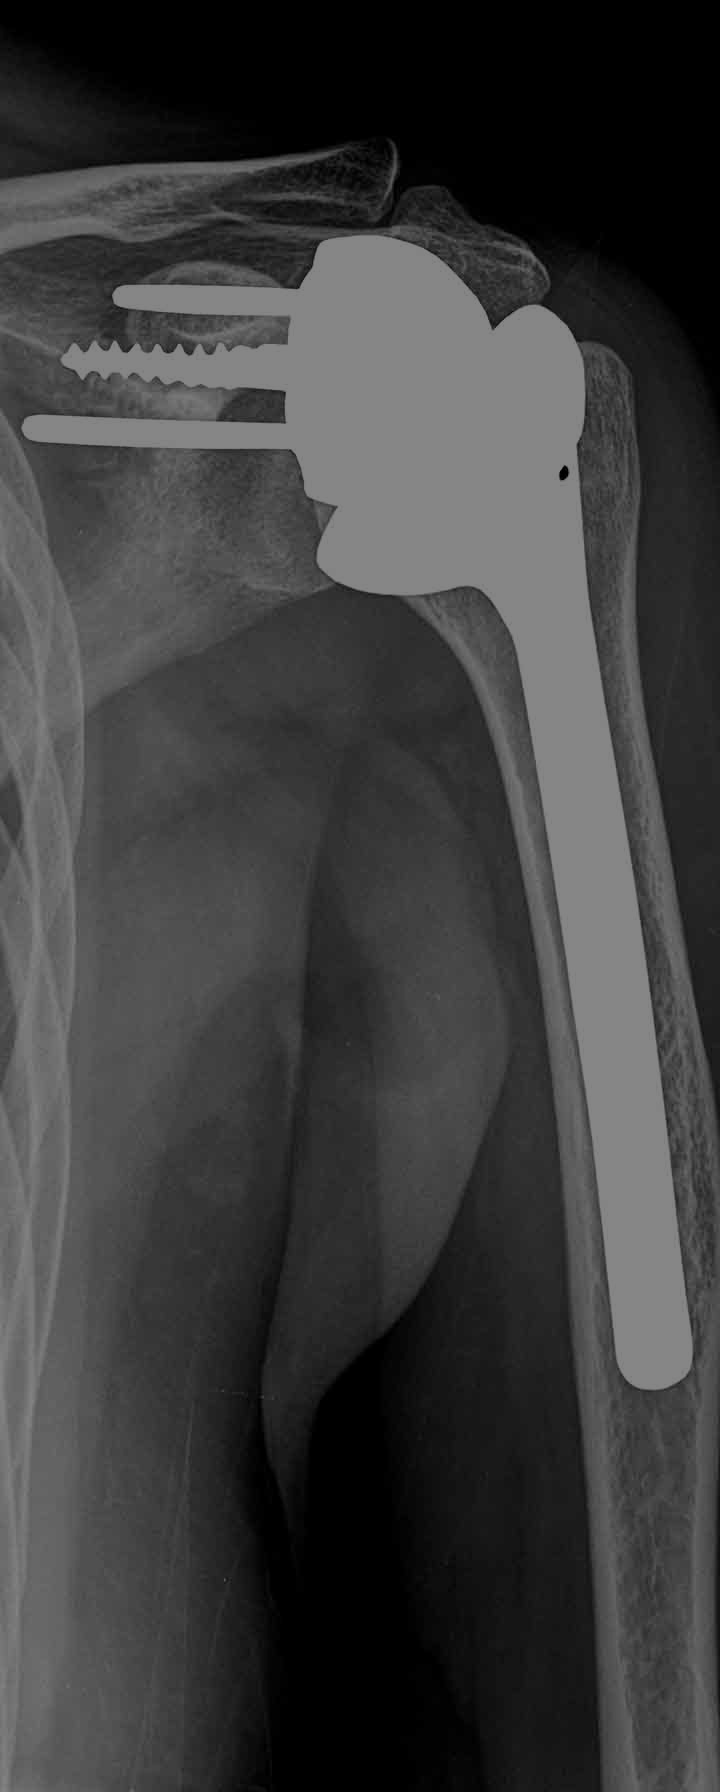Shoulder-Reverse-DJO: (27, 211, 701, 1416)
